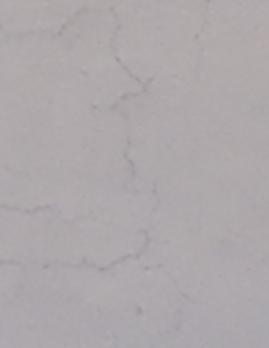fissura: (60, 9, 189, 297)
